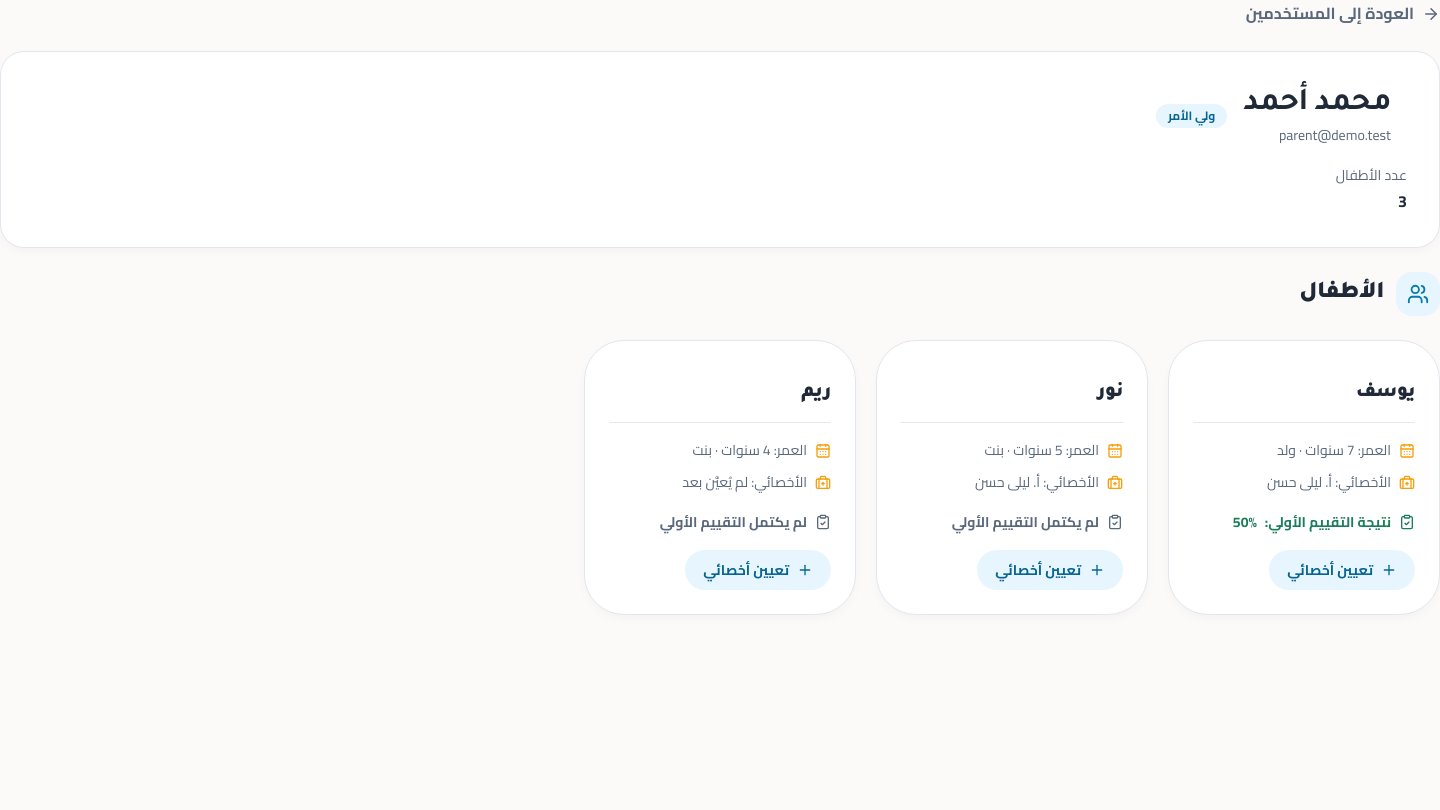
Scenario: AdminUserDetailPage › lists specialists from Admin/specialists, blocks inactive ones and refreshes the child
Expected: the heading "محمد أحمد" is shown, [1243,84,1391,124]
Click the button with aria-label "تعيين أخصائي لـ ريم": click(758, 570) [685,550,831,590]
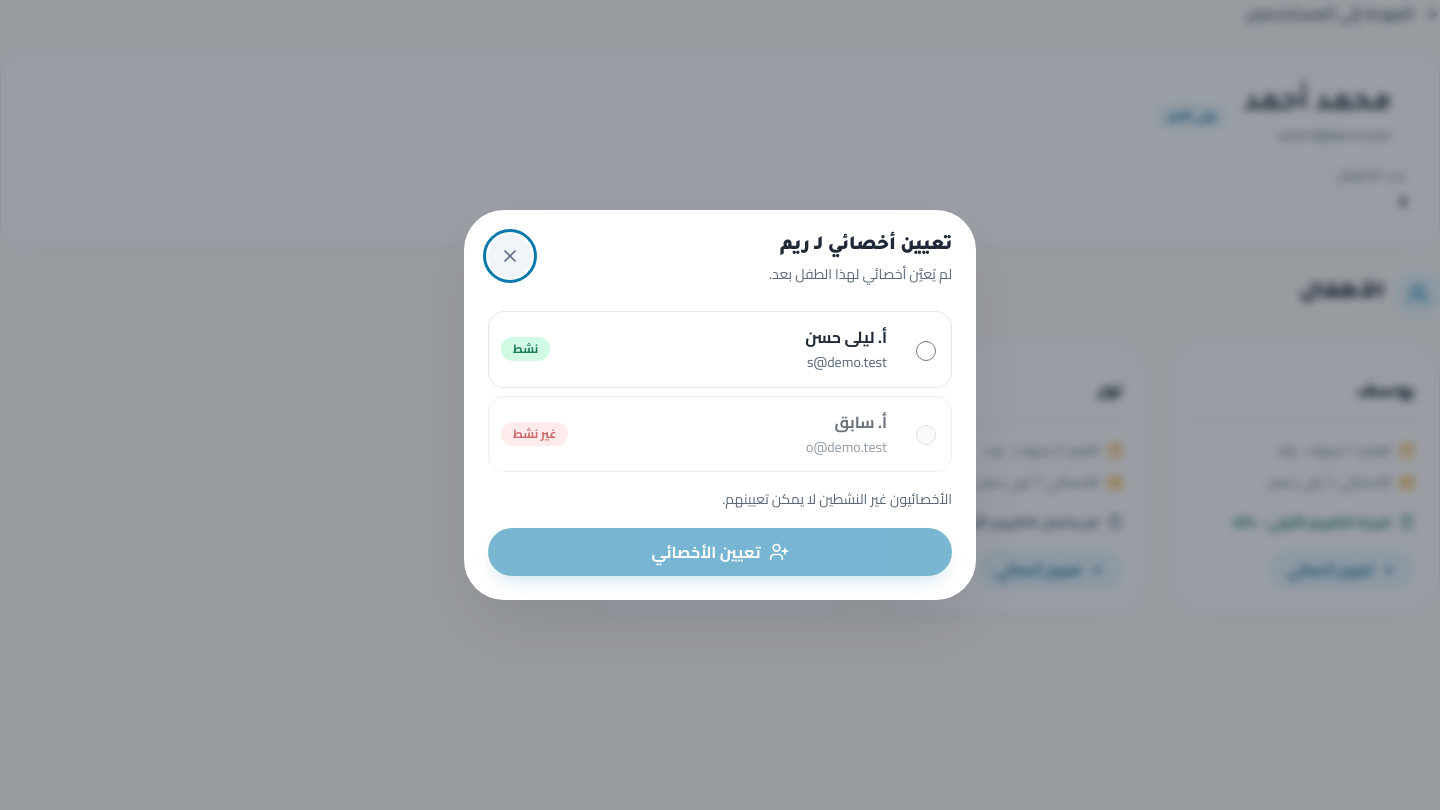
Expected: the radio button labelled "أ. سابق o@demo.test غير نشط" is disabled, [916,426,936,446]
Expected: the text "غير نشط" is shown, [501,422,568,446]
Click the radio button labelled "أ. ليلى حسن s@demo.test نشط": click(926, 350) [916,340,936,360]
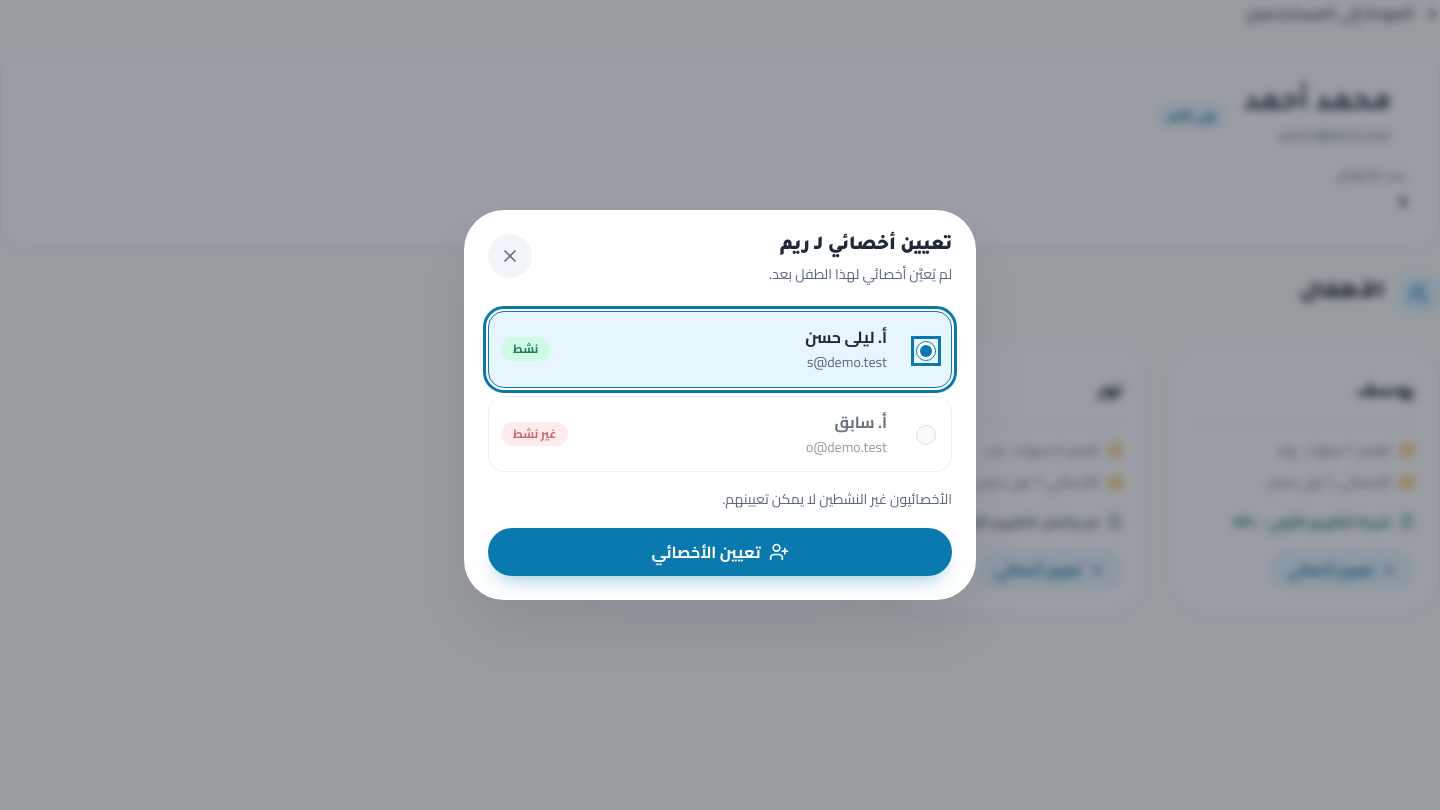
Click the button "تعيين الأخصائي": click(720, 552) [488,528,952,576]
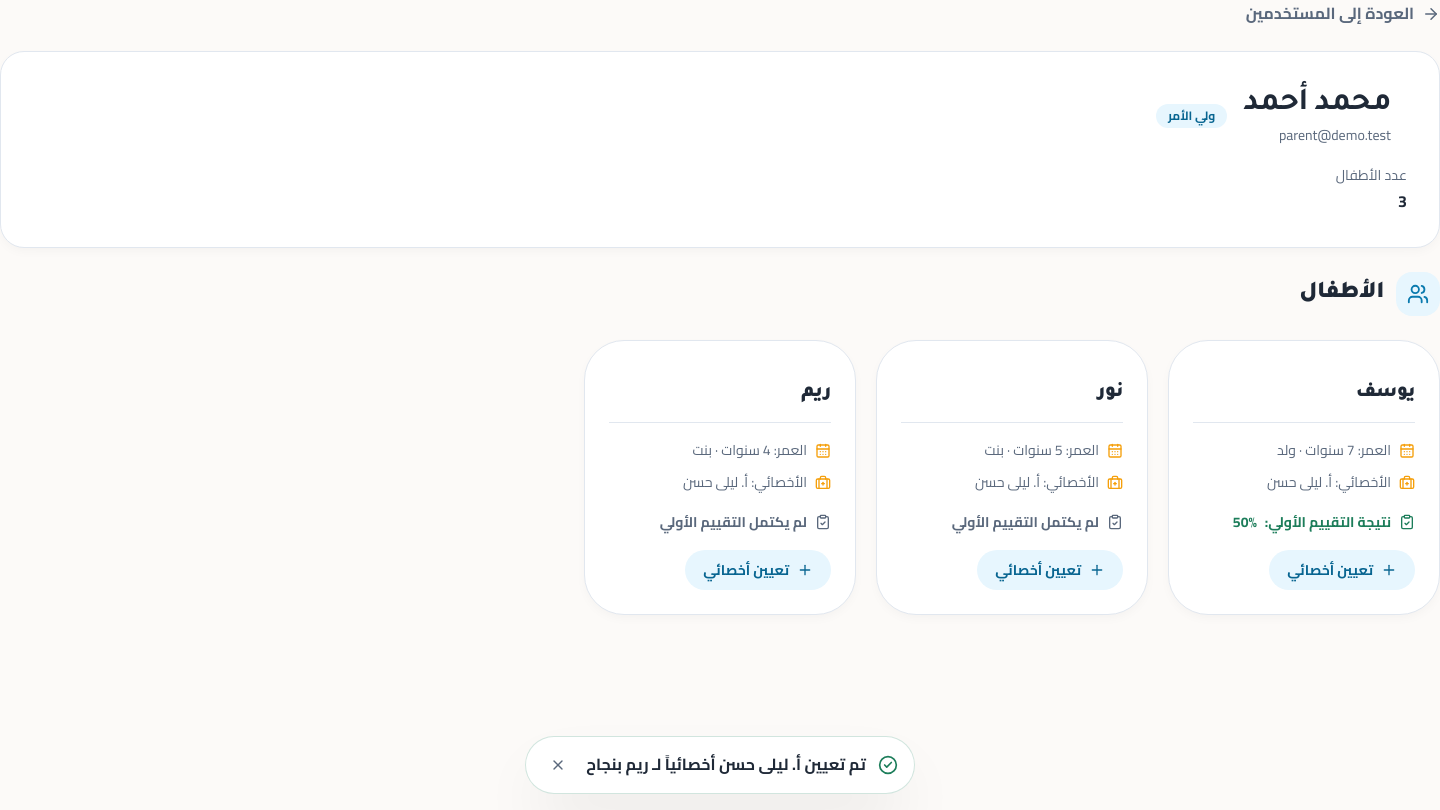
Expected: the text "تم تعيين أ. ليلى حسن أخصائياً لـ ريم بنجاح" is shown, [586,751,866,779]
